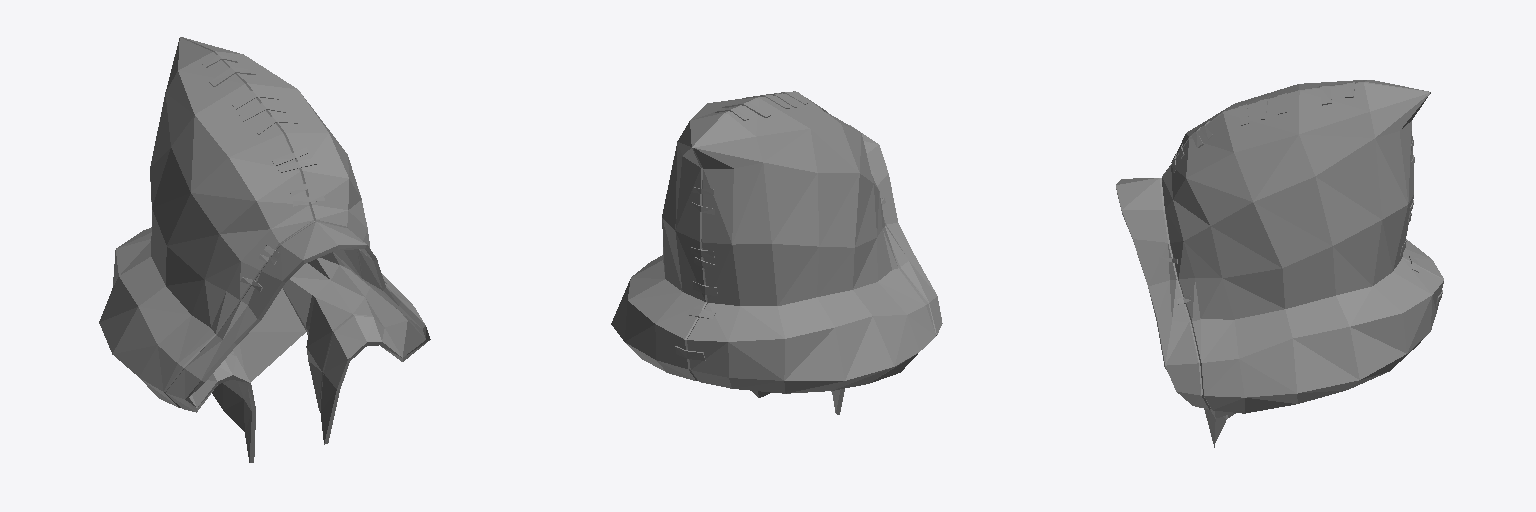
Rendered from angerding.obj.
3 views of the same model, side by side, from view 1: azimuth 30°, elevation 25°; view 2: azimuth 150°, elevation 25°; view 3: azimuth 270°, elevation 25° (orthographic).
Visible parts, largest first — view 1: SMDImport; view 2: SMDImport; view 3: SMDImport.
Part boxes in pixels (x1,y1,x2,y2): SMDImport: (99,37,430,462); SMDImport: (611,91,942,414); SMDImport: (1116,80,1443,447).
Size of the model in its own units: 13.26 by 16.31 by 13.97.